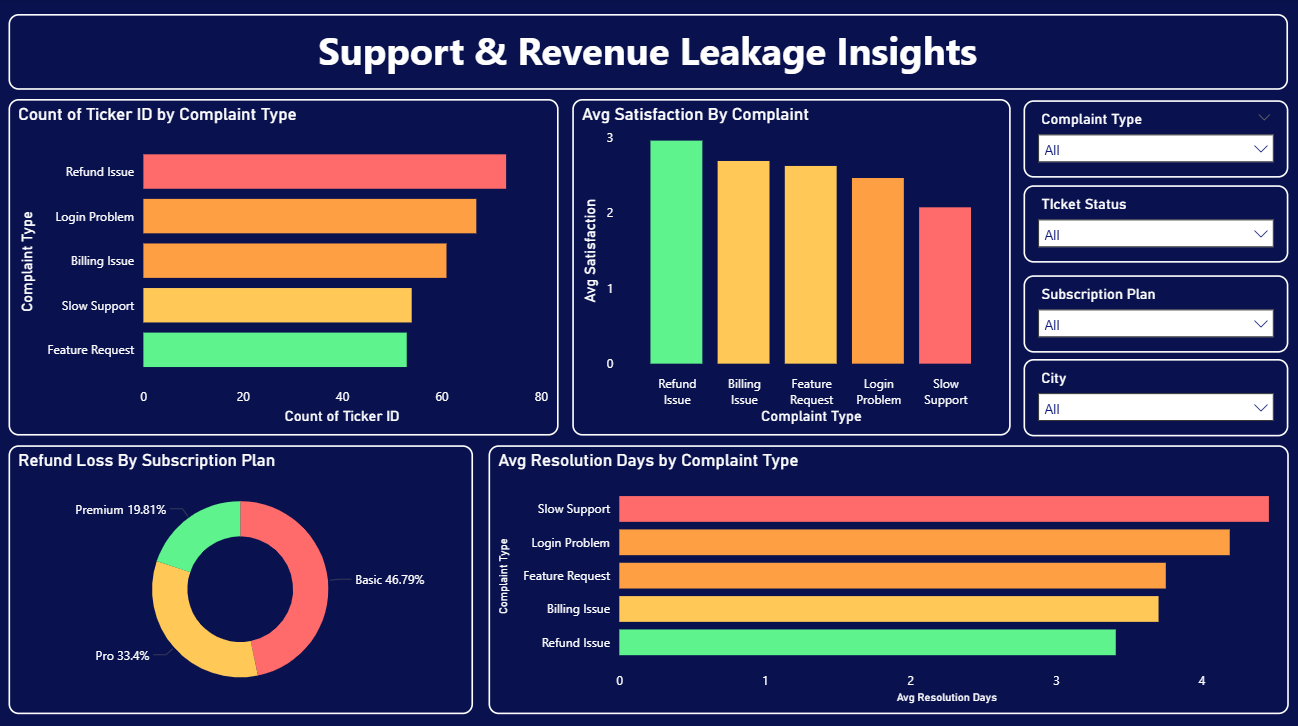

What the dashboard file says about the page in this screenshot:
{"tool":"powerbi","page":{"name":"Support & Revenue Leakage","canvas":[1280,720],"ordinal":2},"visuals":[{"type":"textbox","box":[12.9,14.3,1255.7,74.3],"z":0},{"type":"clusteredBarChart","fields":{"Y":["CountNonNull(support_tickets.ticket_id)"],"Category":["support_tickets.complaint_type"]},"box":[12.9,98.6,540,330],"z":1000},{"type":"clusteredColumnChart","title":"Avg Satisfaction By Complaint","fields":{"Y":["customers.Avg Satisfaction"],"Category":["support_tickets.complaint_type"]},"box":[565.7,98.6,430,330],"z":2000},{"type":"donutChart","title":"Refund Loss By Subscription Plan","fields":{"Category":["customers.subscription_plan"],"Y":["transactions.refund_loss"]},"box":[12.9,438.6,455.7,264.3],"z":3000},{"type":"clusteredBarChart","fields":{"Y":["customers.Avg Resolution Days"],"Category":["support_tickets.complaint_type"]},"box":[482.9,438.6,785.7,264.3],"z":4000},{"type":"slicer","fields":{"Values":["support_tickets.complaint_type"]},"box":[1008.6,100,260,75.7],"z":4001},{"type":"slicer","fields":{"Values":["support_tickets.ticket_status"]},"box":[1008.6,182.9,260,75.7],"z":4002},{"type":"slicer","fields":{"Values":["customers.subscription_plan"]},"box":[1008.6,271.4,260,75.7],"z":4003},{"type":"slicer","fields":{"Values":["customers.city"]},"box":[1008.6,352.9,260,75.7],"z":4004}]}

Visuals, with their boxes in screenshot pixels (x1, y1, x2, y2), scaled from the page's 1280x720 canvas onto the 1298x726 screenshot:
textbox: box(13, 14, 1286, 89)
clusteredBarChart - CountNonNull(support_tickets.ticket_id) x support_tickets.complaint_type: box(13, 99, 561, 432)
"Avg Satisfaction By Complaint" clusteredColumnChart: box(574, 99, 1010, 432)
"Refund Loss By Subscription Plan" donutChart: box(13, 442, 475, 709)
clusteredBarChart - customers.Avg Resolution Days x support_tickets.complaint_type: box(490, 442, 1286, 709)
slicer - support_tickets.complaint_type: box(1023, 101, 1286, 177)
slicer - support_tickets.ticket_status: box(1023, 184, 1286, 261)
slicer - customers.subscription_plan: box(1023, 274, 1286, 350)
slicer - customers.city: box(1023, 356, 1286, 432)
